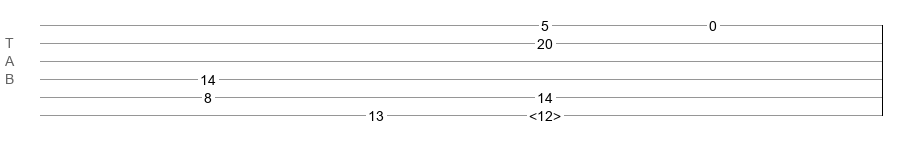0: (709, 18, 717, 28)
13: (368, 108, 384, 118)
14: (200, 72, 216, 82), (537, 90, 553, 100)
20: (537, 36, 553, 46)
5: (541, 18, 549, 28)
8: (204, 90, 212, 100)
harmonic: (529, 108, 561, 118)
